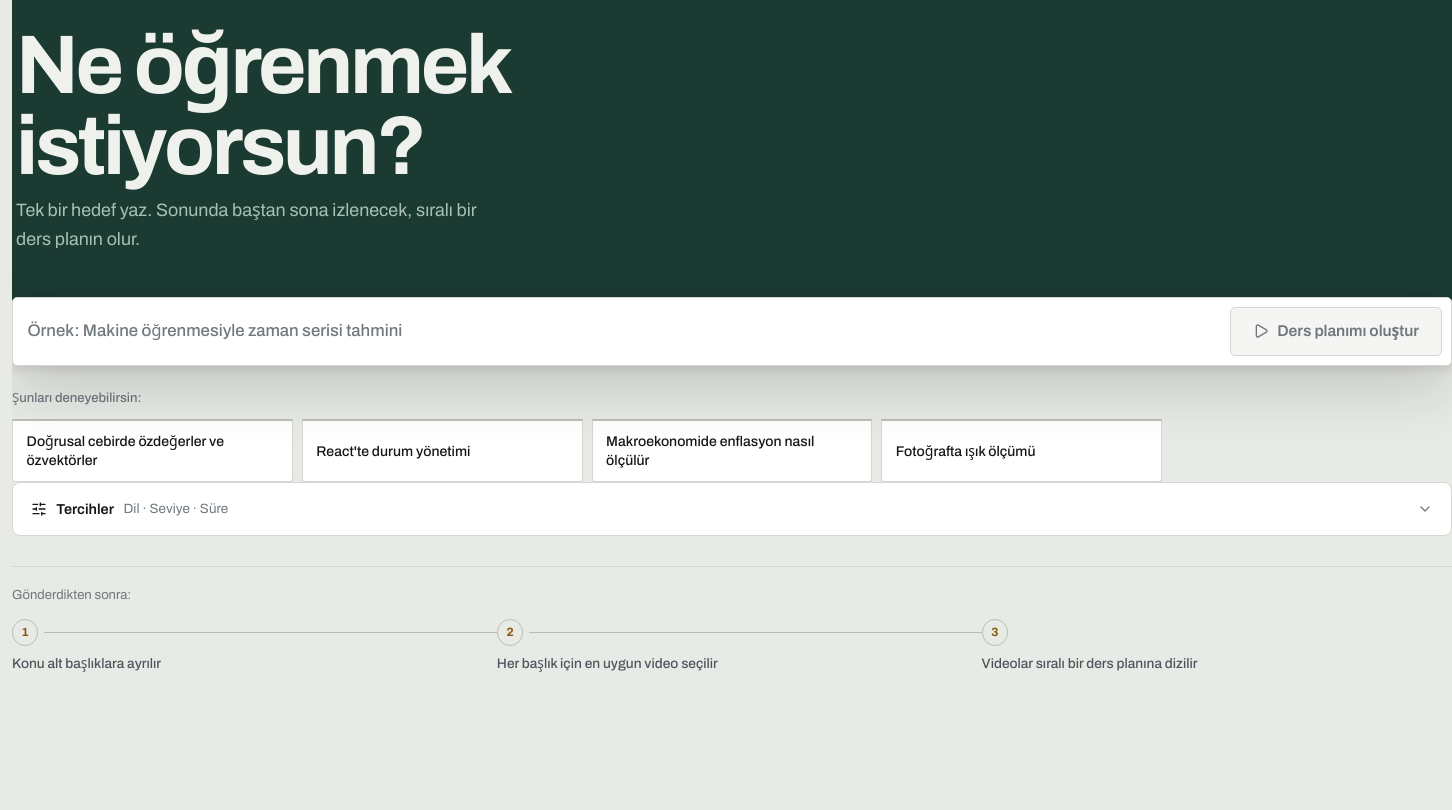
Test: RunForm › konu girilince gönder düğmesi etkinleşir
Type "Kalman filtresi" into the field labelled "Ne öğrenmek istiyorsun?". click: [624, 331]
box: [27,310,1220,352]
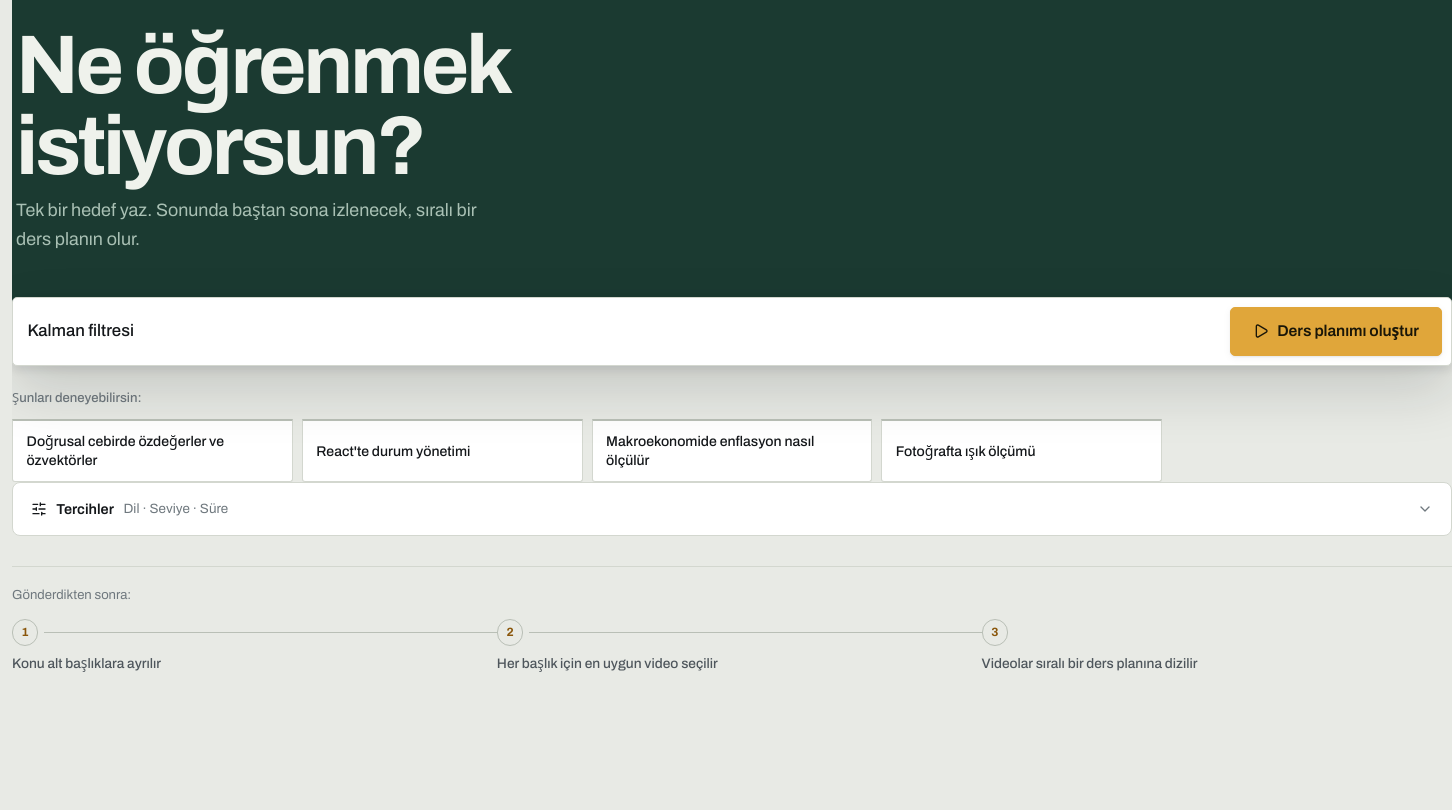
Expected: the button "Ders planımı oluştur" is enabled, [1230,307,1442,356]
